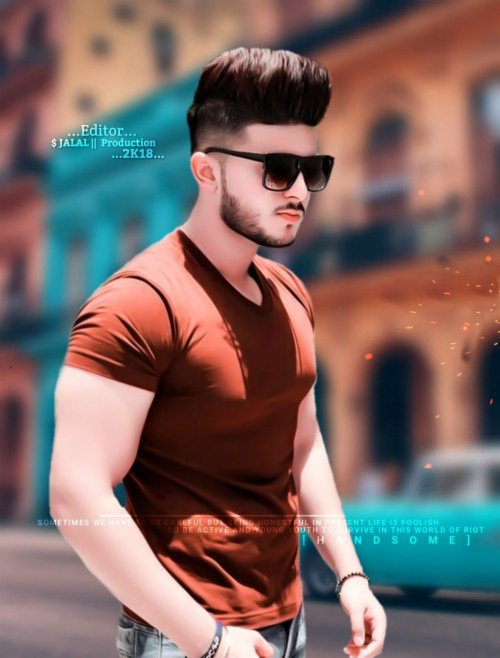noMask: (164, 37, 357, 258)
